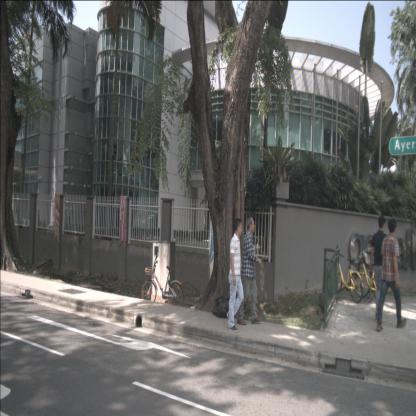human-pedestrian-adult: (377, 218, 406, 332), (237, 216, 262, 325), (226, 218, 244, 333), (369, 216, 388, 322)
vehicle-bicycle: (327, 243, 364, 303), (141, 255, 183, 307), (354, 246, 386, 304)
